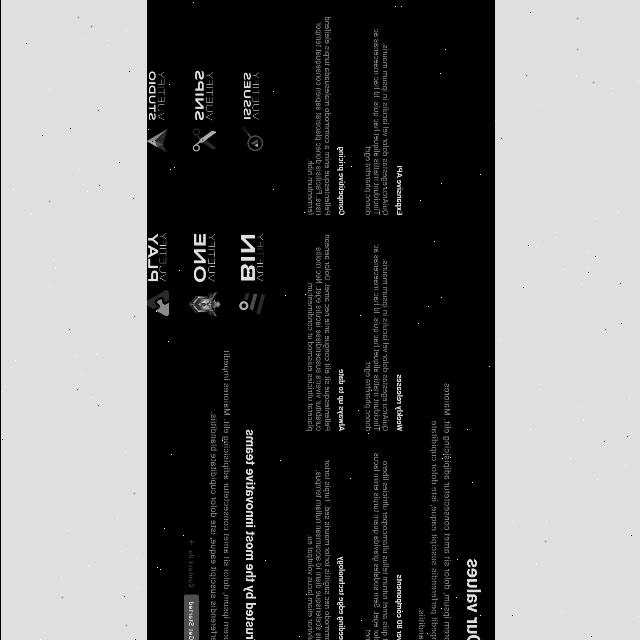QLabel: (416, 382, 450, 640), (206, 348, 230, 640), (302, 234, 332, 434), (360, 26, 388, 218), (305, 14, 331, 218), (362, 452, 390, 640), (362, 242, 388, 432), (305, 458, 331, 640), (242, 430, 255, 640), (464, 560, 480, 640), (336, 554, 344, 640), (336, 146, 344, 217), (393, 372, 402, 434), (394, 574, 402, 640), (336, 367, 344, 433), (394, 164, 402, 216), (184, 600, 193, 640), (187, 550, 193, 588)
VBtn: (182, 594, 198, 640)
VIcon: (186, 539, 192, 547)
VImg: (184, 230, 220, 318), (234, 230, 266, 318), (240, 70, 264, 152), (192, 69, 216, 151), (146, 234, 168, 318), (146, 70, 168, 154)
